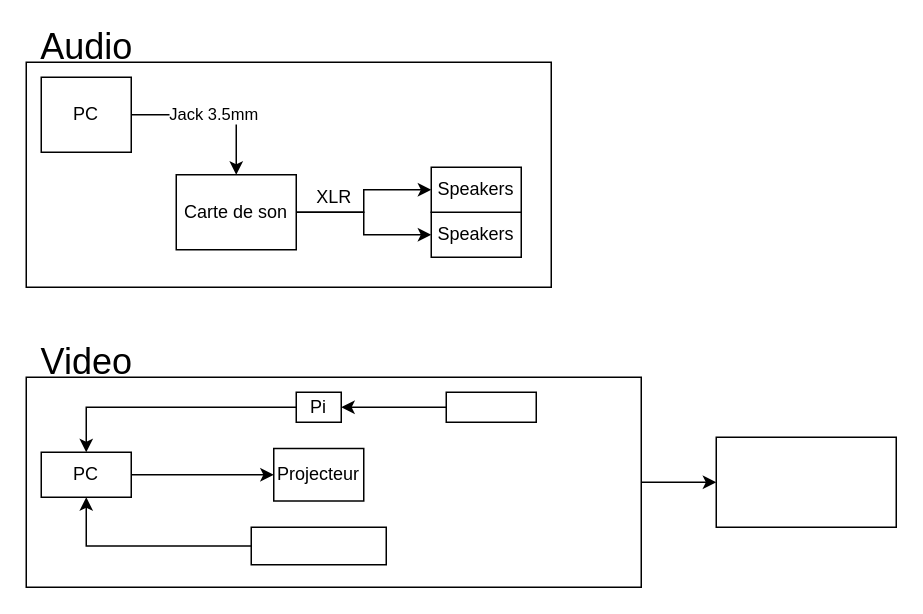
Image size: 923x614. Some labels were removed from this diagram. The shapes that lost their labels are listed below. From the top down, each one's box as (x1, y1, x2, y2) in pixels, then its label:
(445, 391, 536, 422): Kinect
(715, 436, 896, 527): PC Salle matrice
(250, 526, 386, 565): Webcam
